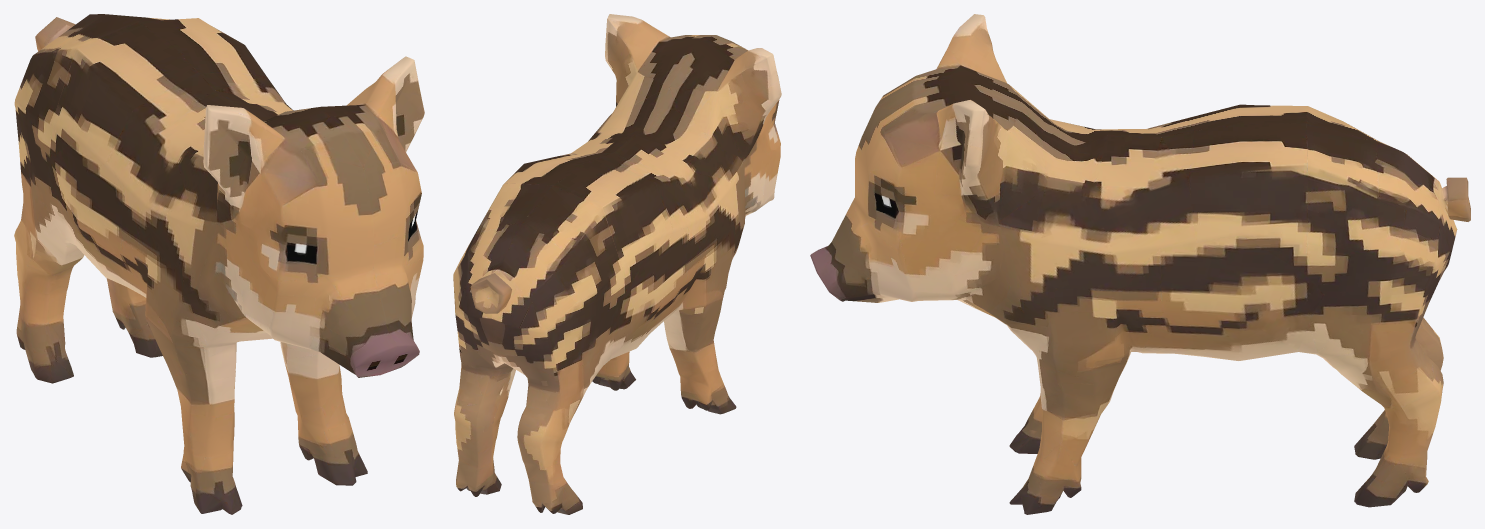
Rendered from wild-piglet.glb.
3 views of the same model, side by side, from view 1: azimuth 30°, elevation 25°; view 2: azimuth 150°, elevation 25°; view 3: azimuth 270°, elevation 25° (orthographic). The views are drawn at different scales.
Bounding box in the file's own units: 0.7006 × 1.32 × 1.91.
Materials: 1 (1 with a texture image).
